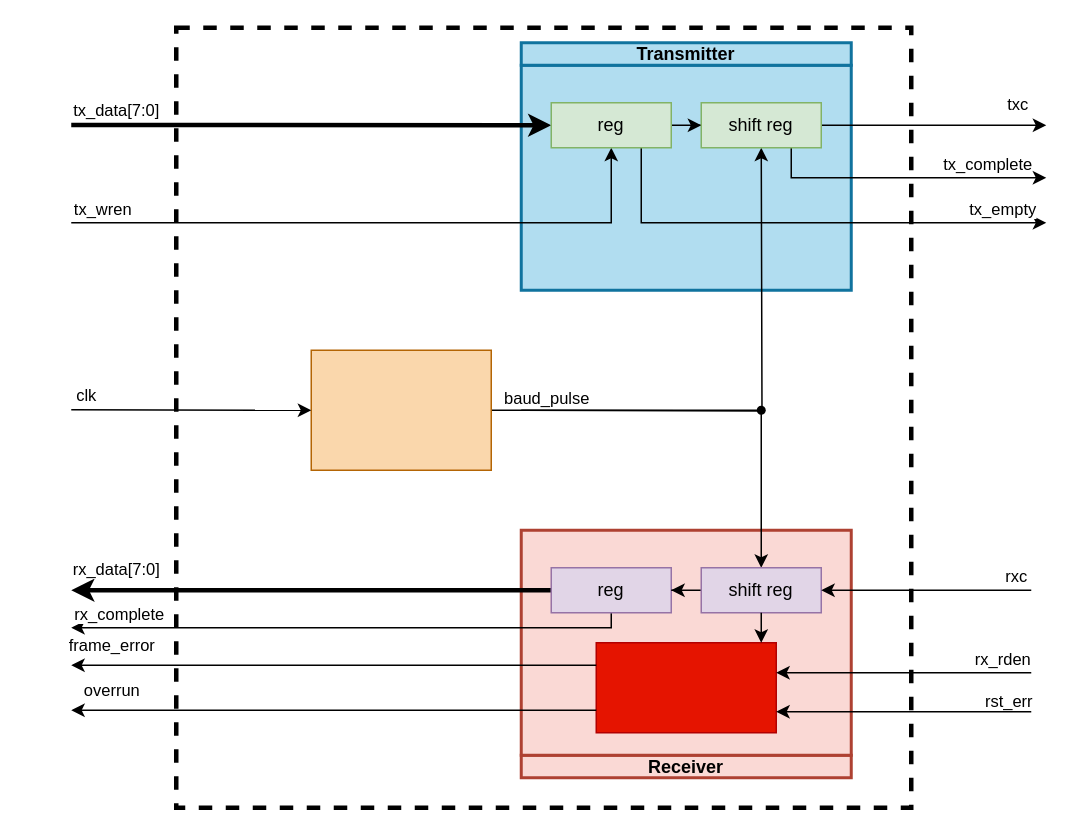
This 1085x836 diagram has some shape labels left out. Each missing label, with the centre of its shape:
Baud Pulse Generator: (x=400, y=409)
error handling unit: (x=685, y=687)
